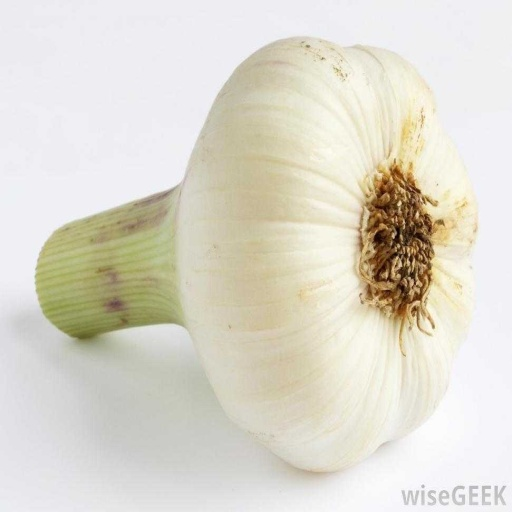Knoblauch: (34, 36, 480, 472)
